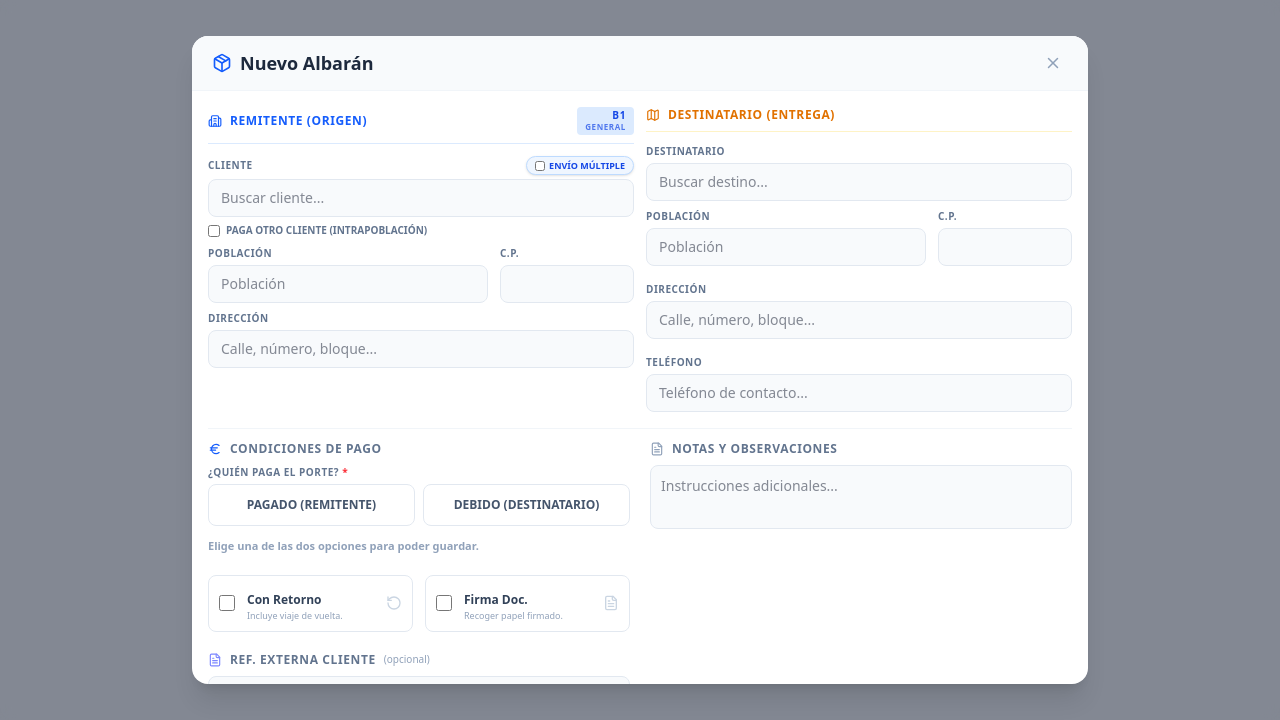
Test case: CreateShipmentModal — qué fichas ofrece el buscador › ofrece la ficha con un estado distinto de approved, igual que la lista de Clientes
Step 1. Type "adamuz" into the field with placeholder "Buscar cliente..." → {"x": 421, "y": 198}, box [208, 180, 634, 218]
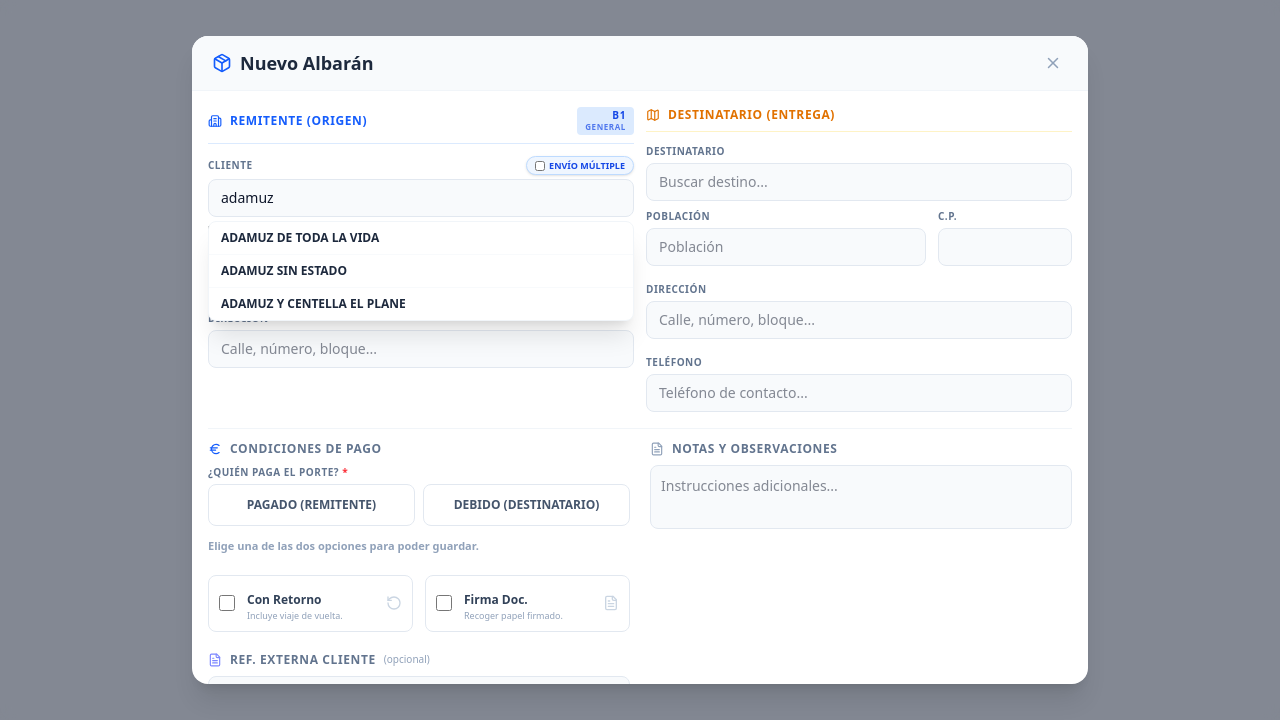
Expected: the text "ADAMUZ Y CENTELLA EL PLANE" is shown, [221, 296, 406, 312]
Expected: the text "ADAMUZ DE TODA LA VIDA" is shown, [221, 230, 379, 246]
Expected: the text "ADAMUZ SIN ESTADO" is shown, [221, 262, 347, 280]
